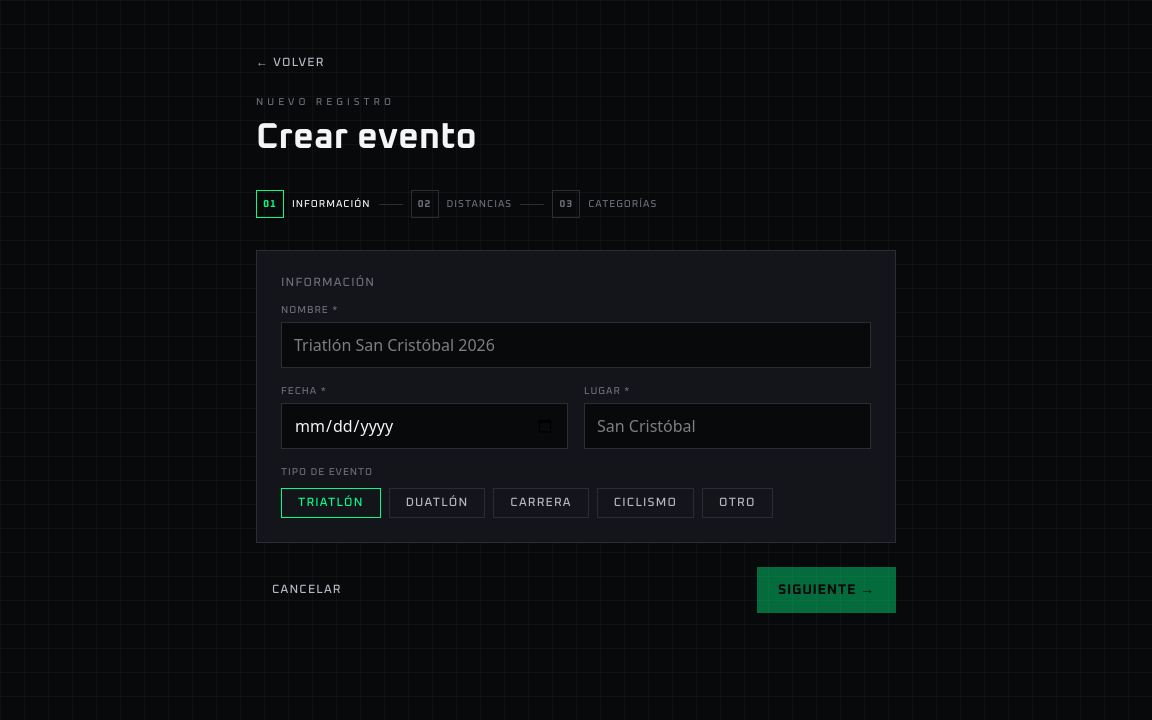
it: NuevoEvento — categorías más claras › labels every field of a category
This screenshot has width=1152, height=720.
Type "Tri Test" into the field with placeholder "Triatlón San Cristóbal 2026" at x=576, y=345, box [281,322,871,368]
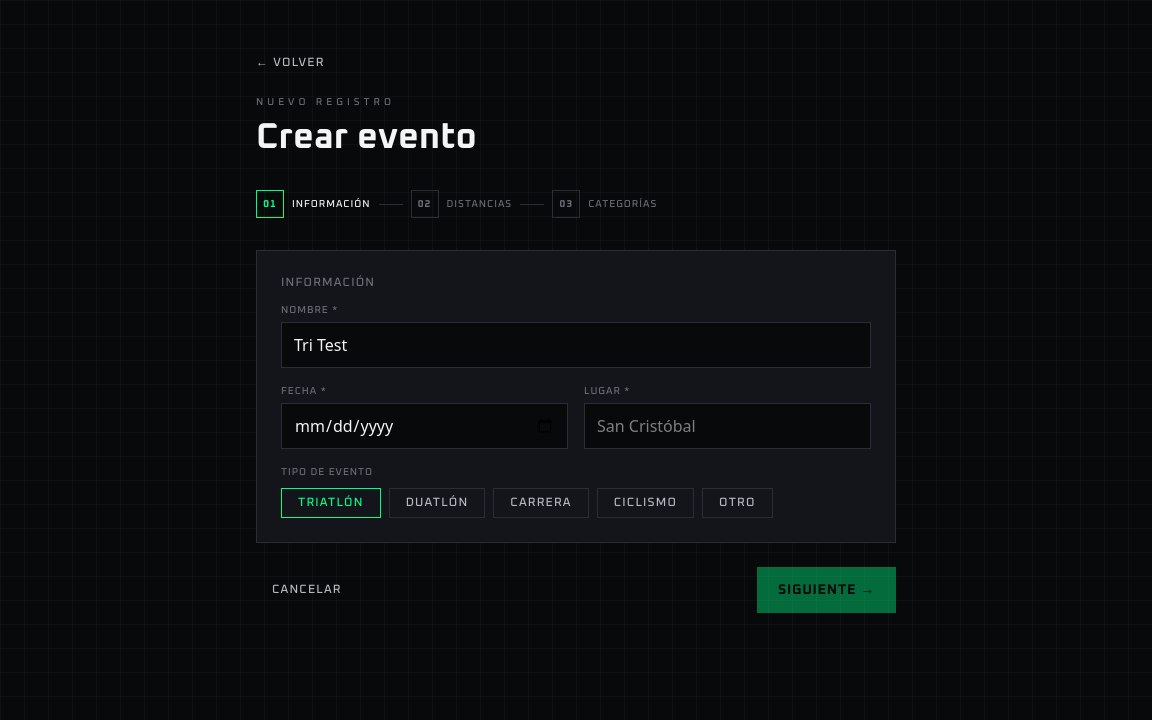
Type "2026-10-04" into the date field at x=424, y=426, box [281,403,568,449]
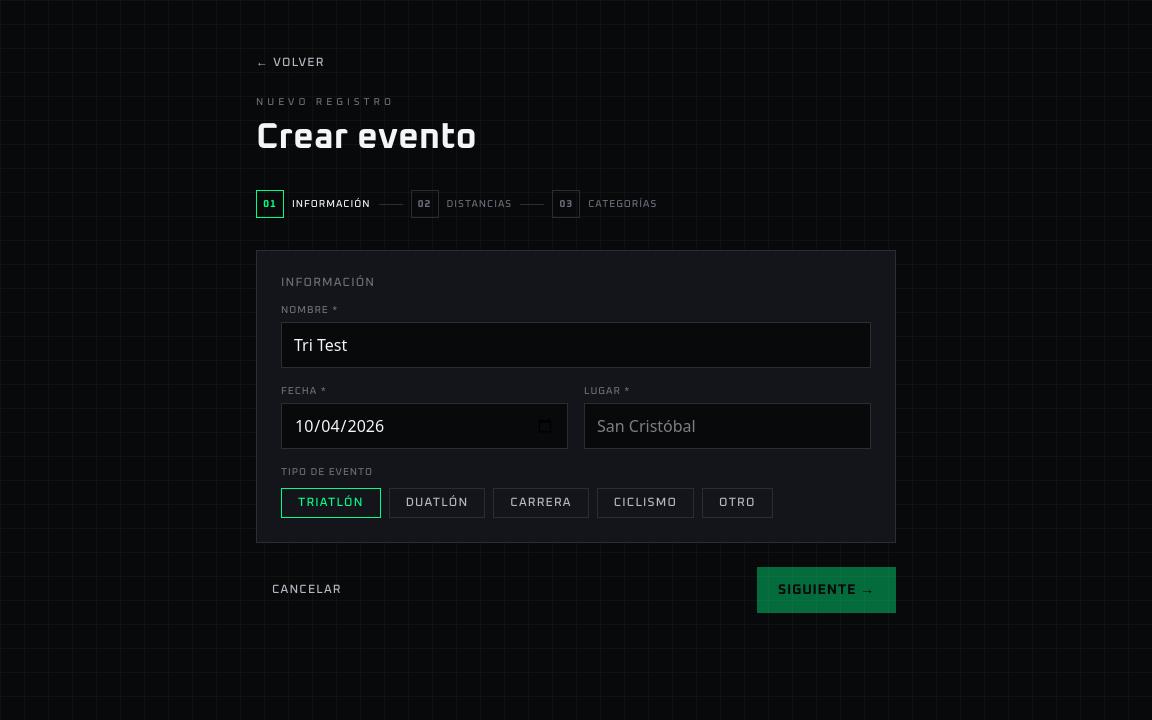
Type "CDMX" into the field with placeholder "San Cristóbal" at x=728, y=426, box [584,403,871,449]
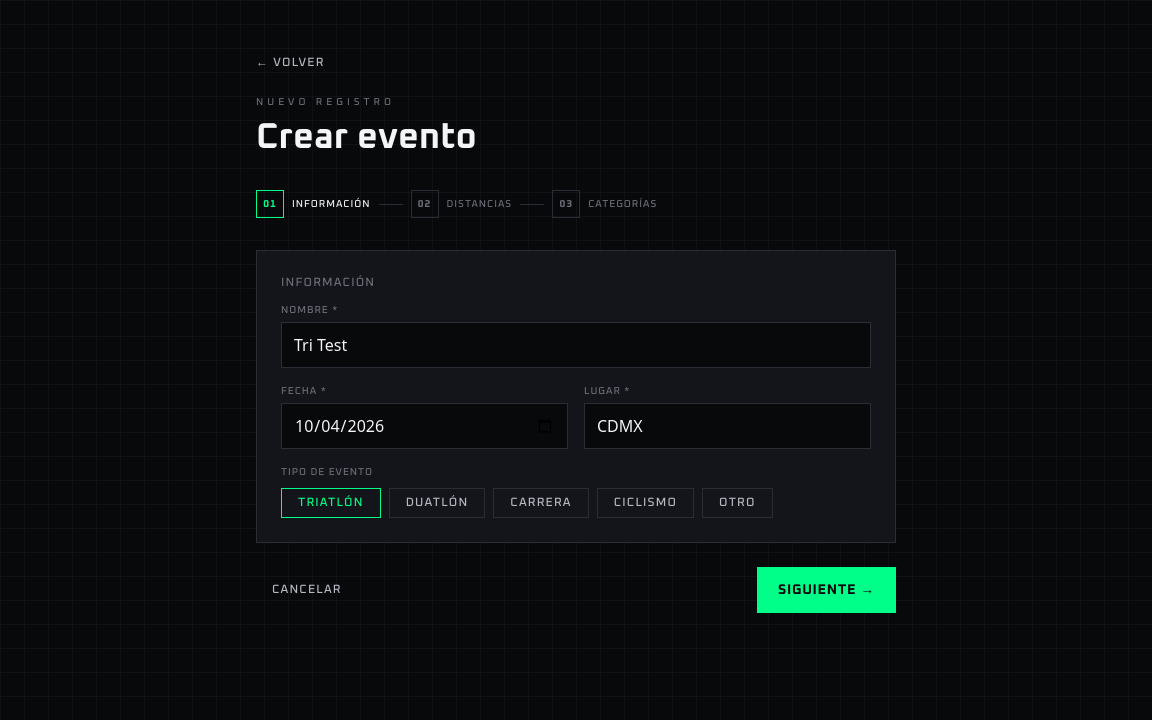
Click the button "Siguiente →" at x=826, y=590, box [757,567,896,613]
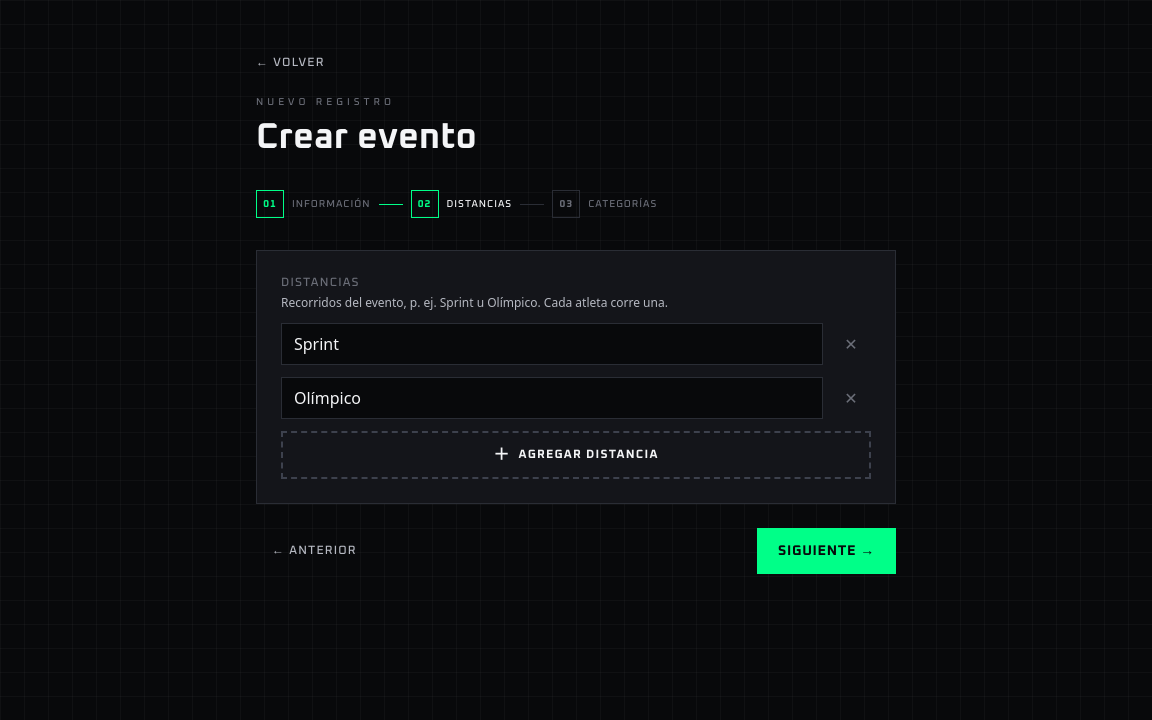
Click the button "Siguiente →" at x=826, y=551, box [757,528,896,574]
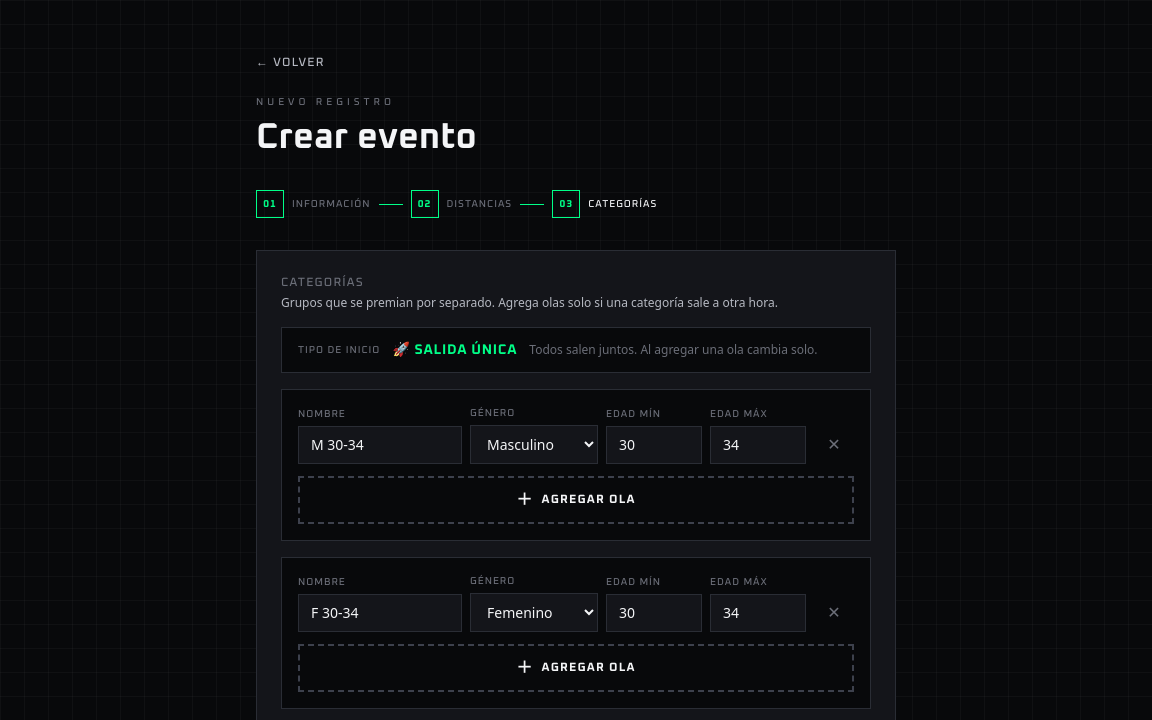
Check: the 1st field labelled "Nombre" holds "M 30-34", box [298,426,462,464]
Check: the 1st dropdown labelled "Género" shows "Masculino", box [470,425,598,464]
Check: the 1st number field labelled "Edad mín" holds "30", box [606,426,702,464]
